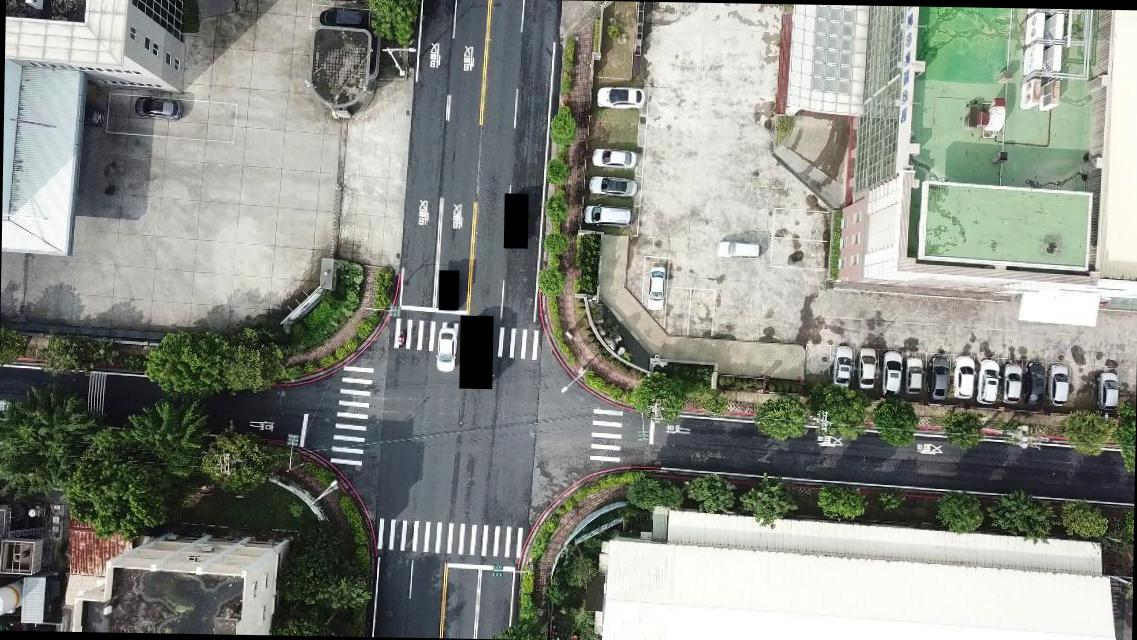vehicle: (132, 92, 184, 121), (597, 82, 643, 110), (590, 174, 638, 200), (583, 202, 632, 226), (644, 262, 666, 312), (1026, 359, 1048, 409), (592, 144, 637, 168), (716, 238, 764, 260), (1050, 360, 1072, 408), (435, 329, 458, 374), (978, 358, 1000, 404), (1098, 368, 1120, 414), (832, 345, 854, 390), (882, 348, 902, 396), (952, 356, 974, 399), (858, 345, 877, 394), (928, 354, 950, 396), (905, 355, 926, 396), (1003, 360, 1022, 404), (86, 106, 104, 126)
